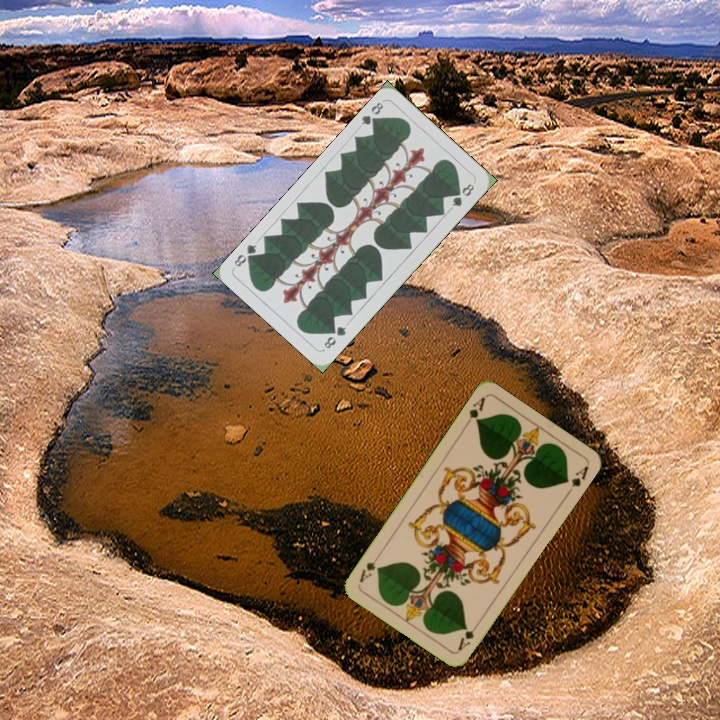G8: (357, 98, 386, 130), (320, 322, 349, 351)
GA: (460, 393, 488, 430), (454, 618, 483, 653)
